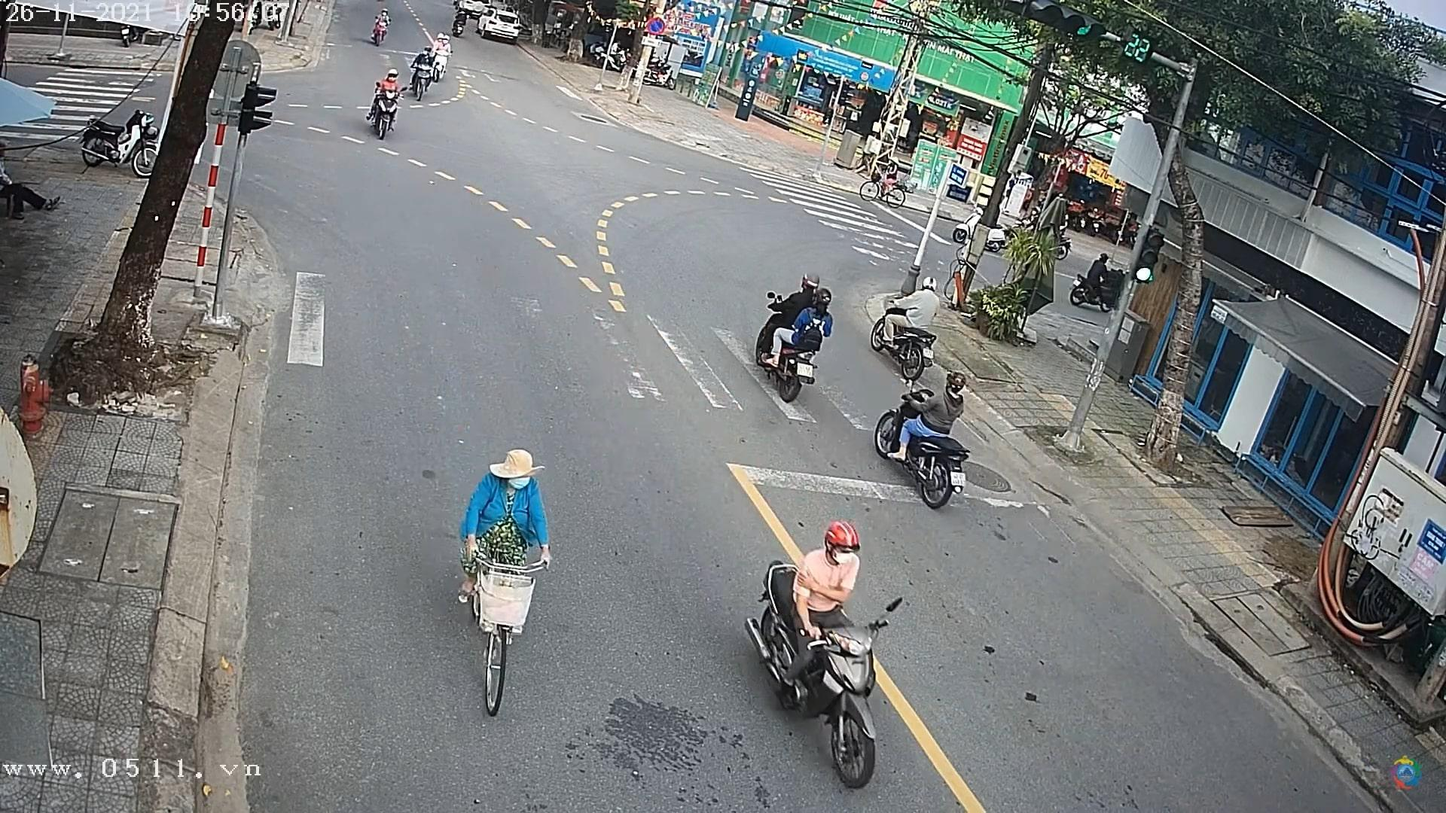motorbike: (750, 552, 902, 790), (874, 384, 968, 516), (750, 281, 824, 401), (865, 285, 935, 386), (368, 74, 403, 140), (405, 53, 436, 104), (969, 516, 971, 516)
